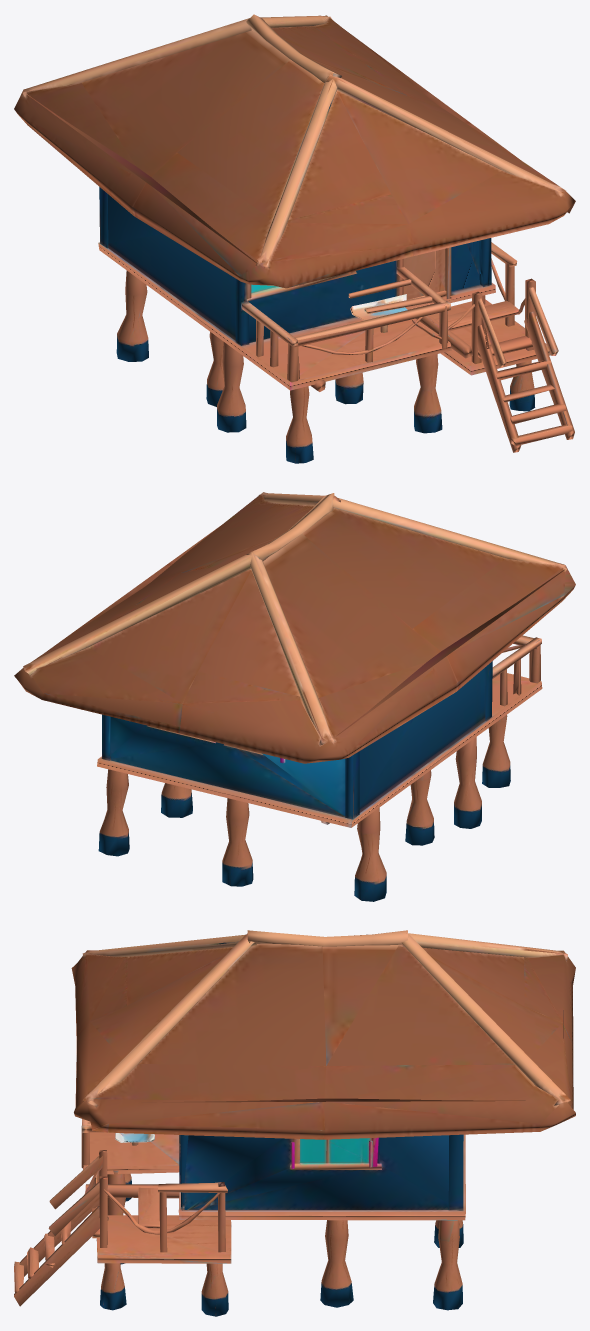
Rendered from bungalow.glb.
3 views of the same model, one above another, from view 1: azimuth 30°, elevation 25°; view 2: azimuth 150°, elevation 25°; view 3: azimuth 270°, elevation 25° (orthographic).
Size of the model in its own units: 0.68 by 0.619 by 1.
Materials: 1 (1 with a texture image).
